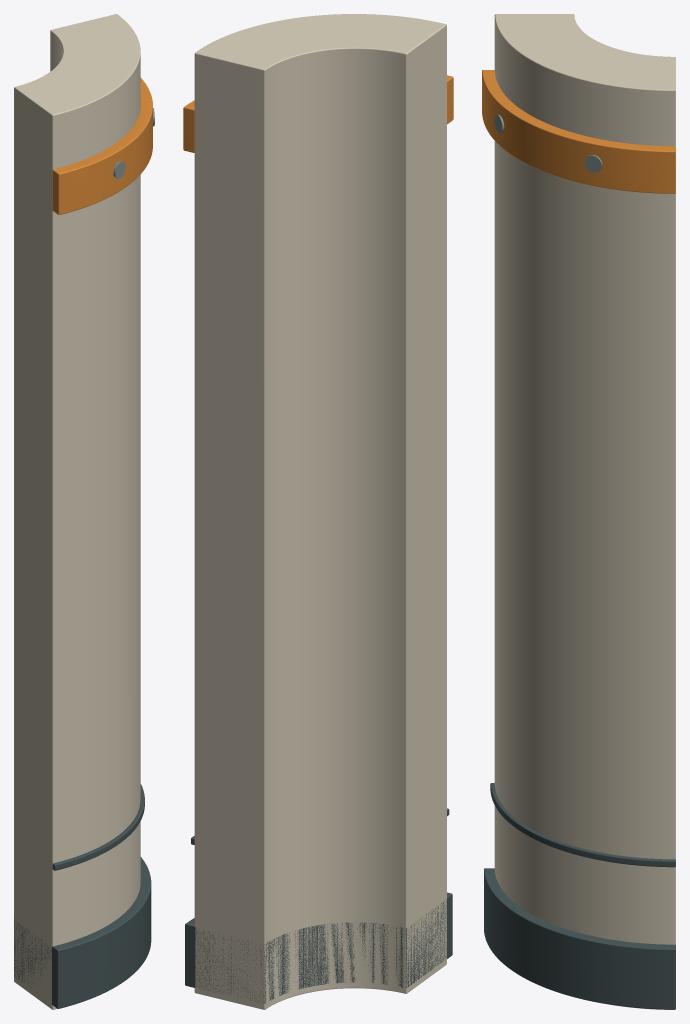
The model's file is wall-corner-r050.glb.
3 renders of one model, left to right at view 1: azimuth 30°, elevation 25°; view 2: azimuth 150°, elevation 25°; view 3: azimuth 270°, elevation 25°, orthographic. The views are drawn at different scales.
Parts seen in each view (by area): view 1: wall-corner-r050 / 01 • warm porcelain paint, wall-corner-r050 / 06 • dark anodized frame, wall-corner-r050 / 03 • ochre enamel; view 2: wall-corner-r050 / 01 • warm porcelain paint, wall-corner-r050 / 06 • dark anodized frame, wall-corner-r050 / 03 • ochre enamel; view 3: wall-corner-r050 / 01 • warm porcelain paint, wall-corner-r050 / 06 • dark anodized frame, wall-corner-r050 / 03 • ochre enamel.
Part boxes in pixels (x1,y1,x2,y2): wall-corner-r050 / 01 • warm porcelain paint: [14, 14, 140, 1009]; wall-corner-r050 / 06 • dark anodized frame: [14, 784, 151, 1008]; wall-corner-r050 / 03 • ochre enamel: [52, 78, 152, 214]; wall-corner-r050 / 01 • warm porcelain paint: [194, 14, 446, 1009]; wall-corner-r050 / 06 • dark anodized frame: [185, 808, 452, 1003]; wall-corner-r050 / 03 • ochre enamel: [183, 75, 453, 152]; wall-corner-r050 / 01 • warm porcelain paint: [494, 14, 675, 1009]; wall-corner-r050 / 06 • dark anodized frame: [484, 783, 675, 1009]; wall-corner-r050 / 03 • ochre enamel: [482, 70, 675, 193].
Bounding box in the file's own units: 0.5349 × 2.8 × 0.5349.
